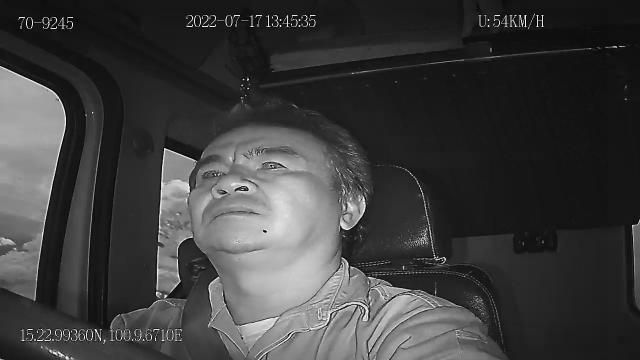SafeDriving: (247, 150, 299, 178), (190, 157, 230, 189)
Seatbelt: (179, 268, 235, 360)
